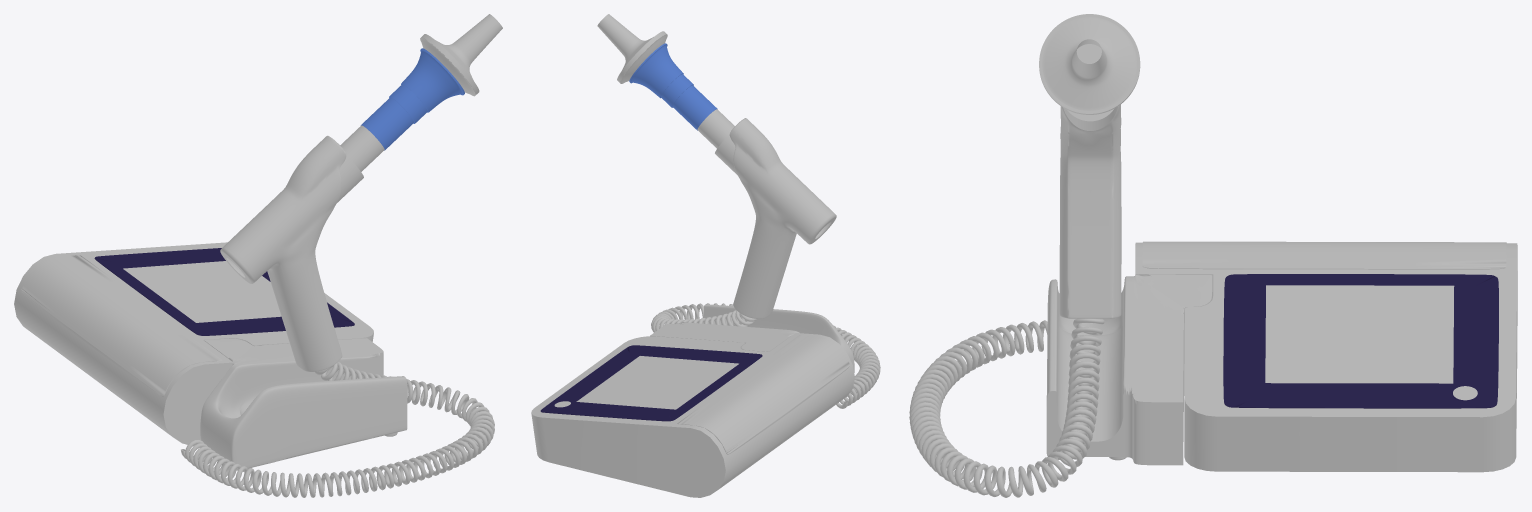
The model's file is chemotherapy.glb.
The picture shows the model from 3 angles, left to right: view 1: azimuth 30°, elevation 25°; view 2: azimuth 150°, elevation 25°; view 3: azimuth 270°, elevation 25°; orthographic projection. The views are drawn at different scales.
Parts seen in each view (by area): view 1: Spirometer; view 2: Spirometer; view 3: Spirometer.
Part boxes in pixels (x1=…): Spirometer: x1=14, y1=14, x2=502, y2=497; Spirometer: x1=531, y1=14, x2=880, y2=497; Spirometer: x1=909, y1=14, x2=1517, y2=497.
Bounding box in the file's own units: 2.7 × 3.11 × 3.52.
